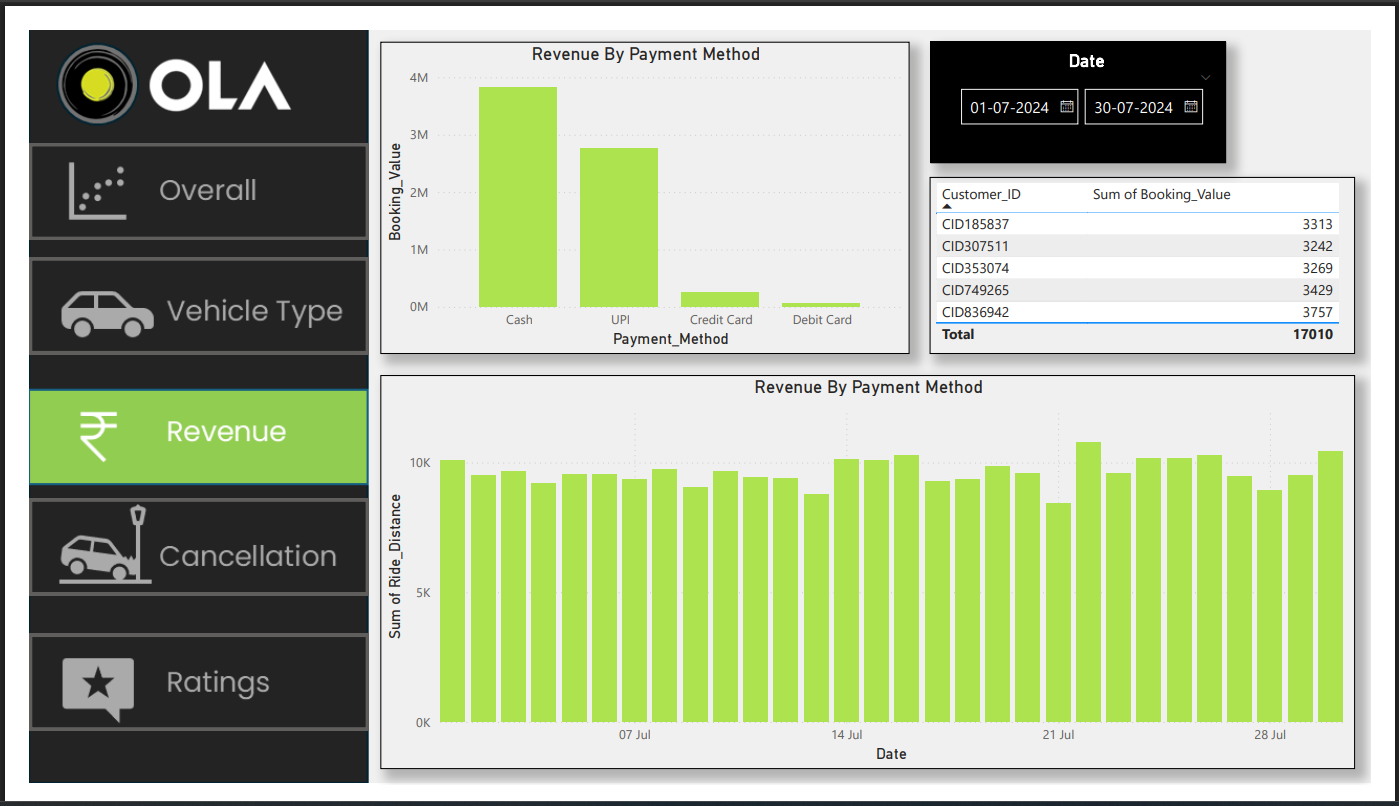

What the dashboard file says about the page in this screenshot:
{"tool":"powerbi","page":{"name":"Revenue","canvas":[1280,720],"ordinal":2},"visuals":[{"type":"actionButton","box":[0,108.4,323.8,91.9],"z":0},{"type":"actionButton","box":[0,216.8,323.8,91.9],"z":1000},{"type":"actionButton","box":[0,447.3,323.8,91.9],"z":2000},{"type":"actionButton","box":[0,576.3,323.8,91.9],"z":3000},{"type":"columnChart","title":"Revenue By Payment Method","fields":{"Y":["Sum(July.Booking_Value)"],"Category":["July.Payment_Method"]},"box":[334.8,11,505,297.8],"z":4000},{"type":"columnChart","title":"Revenue By Payment Method","fields":{"Category":["July.Date"],"Y":["Sum(July.Ride_Distance)"]},"box":[334.8,329.3,930.4,376],"z":5000},{"type":"slicer","title":"Date","fields":{"Values":["July.Date"]},"box":[859.5,11.4,282.2,115.5],"z":6000},{"type":"tableEx","title":"Top Five Customers","fields":{"Values":["July.Customer_ID","Sum(July.Booking_Value)"]},"box":[859,140,406.2,168.8],"z":7000}]}

Visuals, with their boxes in screenshot pixels (x1, y1, x2, y2), scaled from the page's 1280x720 canvas onto the 1399x806 screenshot:
actionButton: BBox(0, 121, 354, 224)
actionButton: BBox(0, 243, 354, 346)
actionButton: BBox(0, 501, 354, 604)
actionButton: BBox(0, 645, 354, 748)
"Revenue By Payment Method" columnChart: BBox(366, 12, 918, 346)
"Revenue By Payment Method" columnChart: BBox(366, 369, 1383, 790)
"Date" slicer: BBox(939, 13, 1248, 142)
"Top Five Customers" tableEx: BBox(939, 157, 1383, 346)
